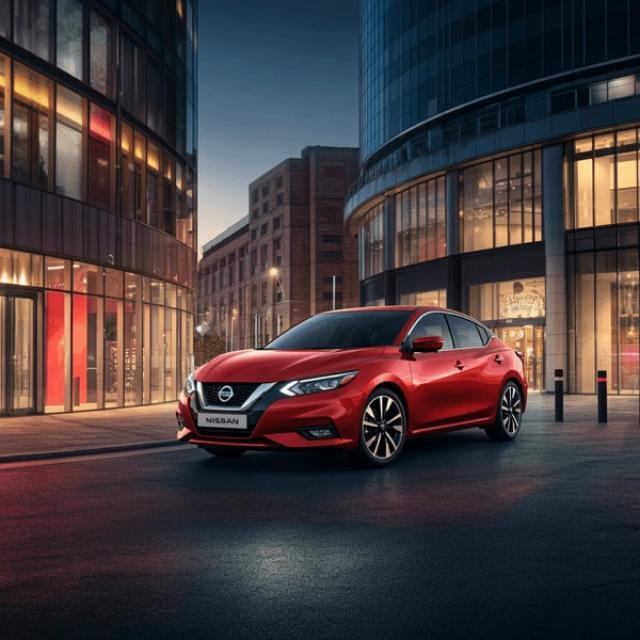nissan: (213, 382, 239, 407)
